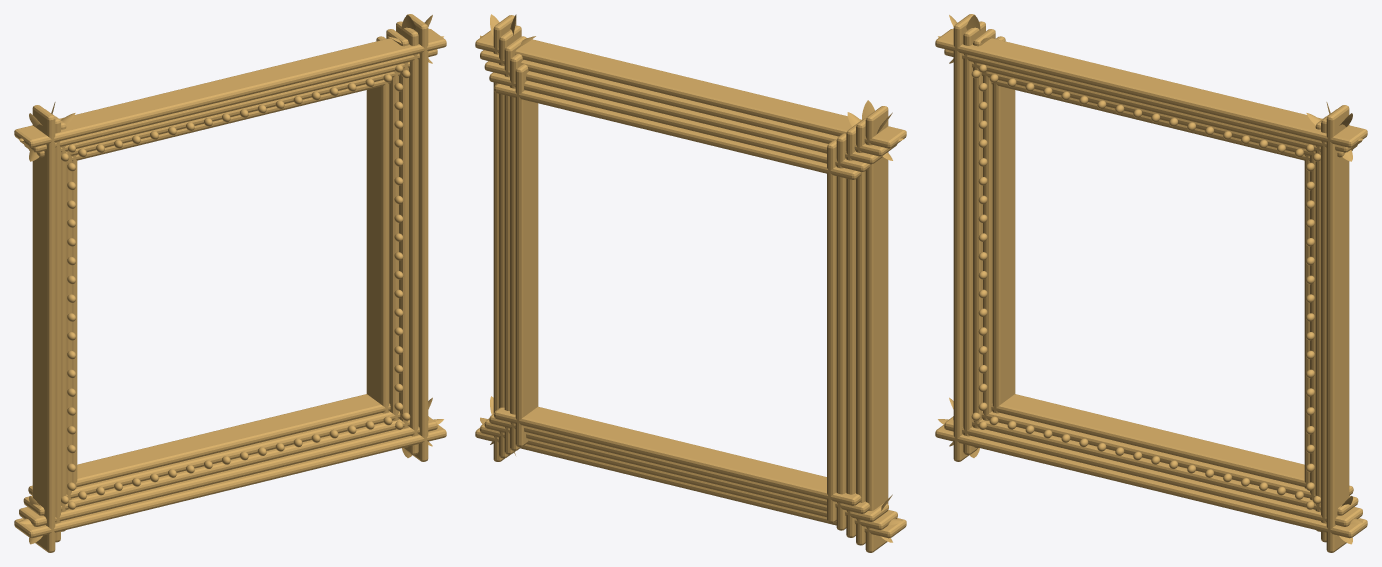
The model's file is portal-frame.glb.
The picture shows the model from 3 angles, left to right: view 1: azimuth 30°, elevation 25°; view 2: azimuth 150°, elevation 25°; view 3: azimuth 330°, elevation 25°; orthographic projection.
Visible parts, largest first — view 1: Stepped portal moulding.016, Stepped portal moulding.019, Stepped portal moulding.002, Stepped portal moulding.001, Stepped portal moulding.018, Stepped portal moulding.017, Stepped portal moulding.013, Stepped portal moulding.014, Stepped portal moulding.009, Stepped portal moulding.010, Stepped portal moulding.006, Stepped portal moulding.005 (+8 smaller); view 2: Stepped portal moulding.016, Stepped portal moulding.019, Stepped portal moulding.002, Stepped portal moulding.001, Stepped portal moulding.004, Stepped portal moulding.015, Stepped portal moulding.003, Stepped portal moulding.007, Stepped portal moulding.012, Stepped portal moulding.011, Stepped portal moulding, Stepped portal moulding.008 (+8 smaller); view 3: Stepped portal moulding.018, Stepped portal moulding.019, Stepped portal moulding, Stepped portal moulding.001, Stepped portal moulding.016, Stepped portal moulding.017, Stepped portal moulding.013, Stepped portal moulding.012, Stepped portal moulding.009, Stepped portal moulding.008, Stepped portal moulding.004, Stepped portal moulding.005 (+8 smaller).
Part boxes in pixels (bbox=[...]): Stepped portal moulding.016: bbox=[32, 105, 55, 552]; Stepped portal moulding.019: bbox=[14, 28, 446, 147]; Stepped portal moulding.002: bbox=[366, 83, 389, 413]; Stepped portal moulding.001: bbox=[75, 394, 390, 486]; Stepped portal moulding.018: bbox=[406, 14, 428, 461]; Stepped portal moulding.017: bbox=[14, 425, 446, 538]; Stepped portal moulding.013: bbox=[19, 416, 437, 526]; Stepped portal moulding.014: bbox=[396, 21, 418, 454]; Stepped portal moulding.009: bbox=[23, 416, 428, 515]; Stepped portal moulding.010: bbox=[386, 29, 408, 448]; Stepped portal moulding.006: bbox=[376, 36, 398, 420]; Stepped portal moulding.005: bbox=[28, 411, 400, 498]; Stepped portal moulding.016: bbox=[865, 106, 888, 552]; Stepped portal moulding.019: bbox=[475, 30, 906, 148]; Stepped portal moulding.002: bbox=[515, 64, 538, 446]; Stepped portal moulding.001: bbox=[494, 406, 861, 505]; Stepped portal moulding.004: bbox=[836, 133, 846, 530]; Stepped portal moulding.015: bbox=[480, 50, 897, 156]; Stepped portal moulding.003: bbox=[494, 83, 861, 179]; Stepped portal moulding.007: bbox=[489, 72, 870, 171]; Stepped portal moulding.012: bbox=[856, 118, 866, 545]; Stepped portal moulding.011: bbox=[484, 61, 888, 164]; Stepped portal moulding: bbox=[827, 140, 836, 522]; Stepped portal moulding.008: bbox=[846, 120, 861, 537]; Stepped portal moulding.018: bbox=[1326, 105, 1349, 552]; Stepped portal moulding.019: bbox=[935, 28, 1367, 147]; Stepped portal moulding: bbox=[992, 83, 1015, 413]; Stepped portal moulding.001: bbox=[991, 394, 1306, 486]; Stepped portal moulding.016: bbox=[953, 14, 975, 461]; Stepped portal moulding.017: bbox=[935, 425, 1367, 538]; Stepped portal moulding.013: bbox=[944, 416, 1362, 526]; Stepped portal moulding.012: bbox=[963, 21, 985, 454]; Stepped portal moulding.009: bbox=[953, 416, 1358, 515]; Stepped portal moulding.008: bbox=[973, 29, 995, 448]; Stepped portal moulding.004: bbox=[983, 36, 1005, 420]; Stepped portal moulding.005: bbox=[981, 411, 1353, 498].
Size of the model in its own units: 1.4 by 1.4 by 0.148.
